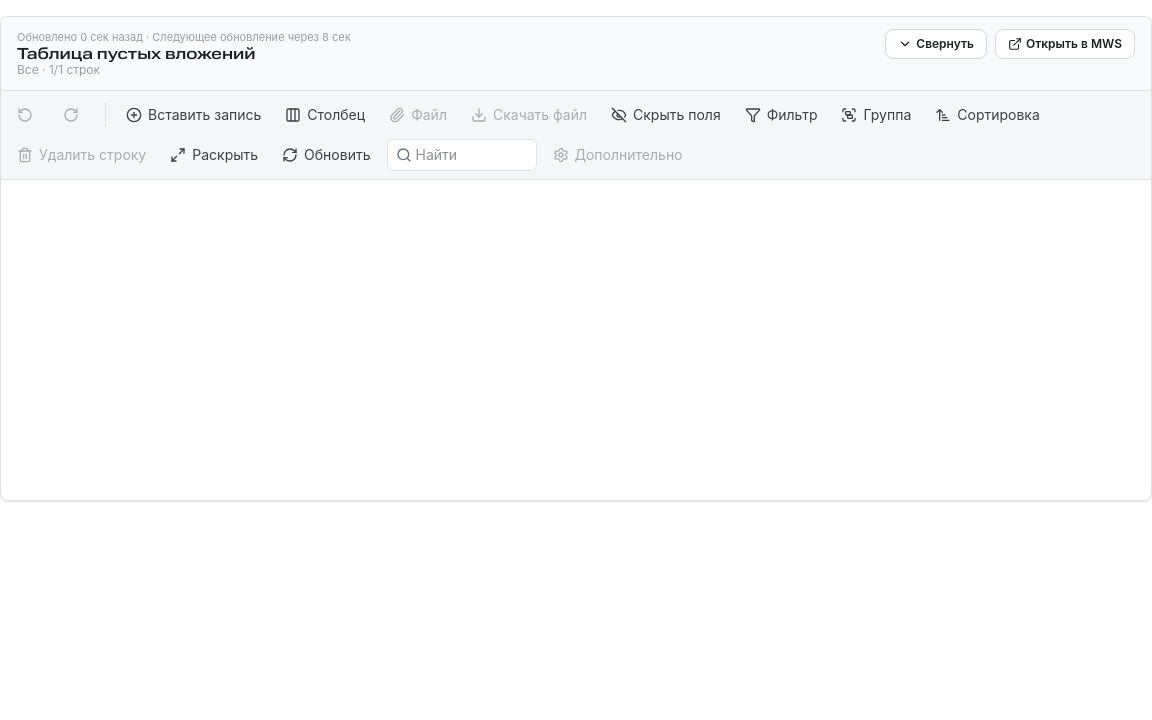
Test: MwsTableEmbedComponent › opens upload modal from an empty attachment cell widget
The width and height of the screenshot is (1152, 720).
Press the mouse on the drawing with test id "mws_canvas_grid" at (576, 340), box [1,180,1151,500]
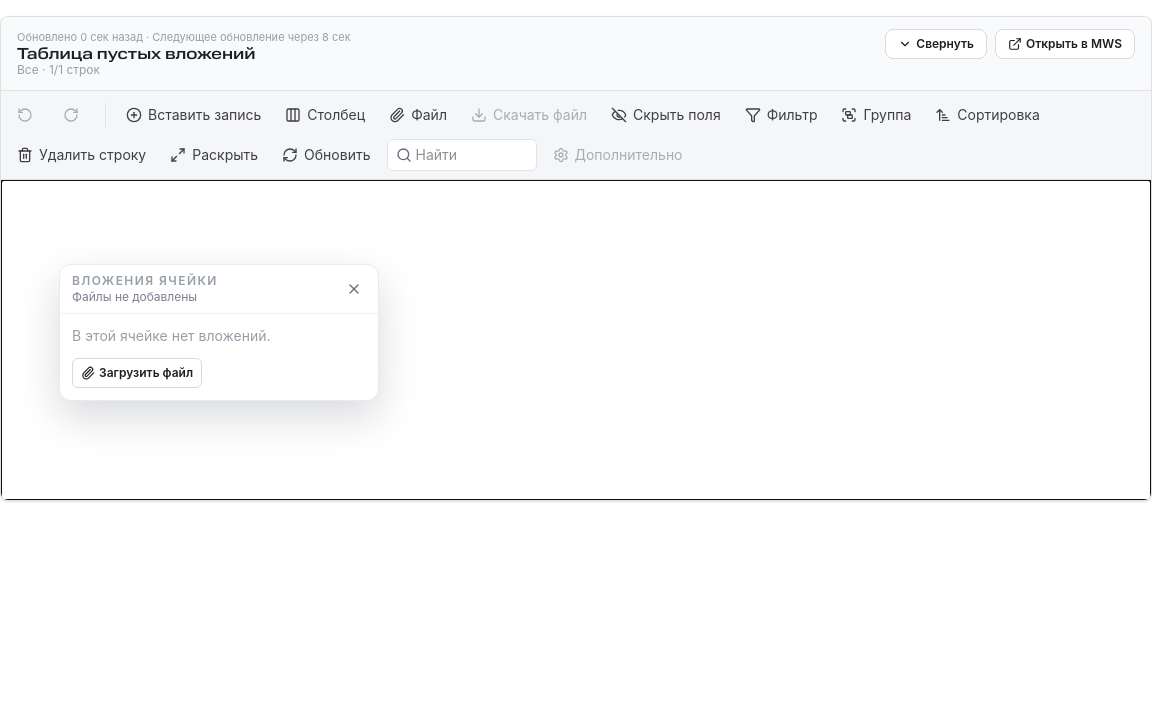
Click the button "Загрузить файл" at (137, 372), box [72,358,202,388]
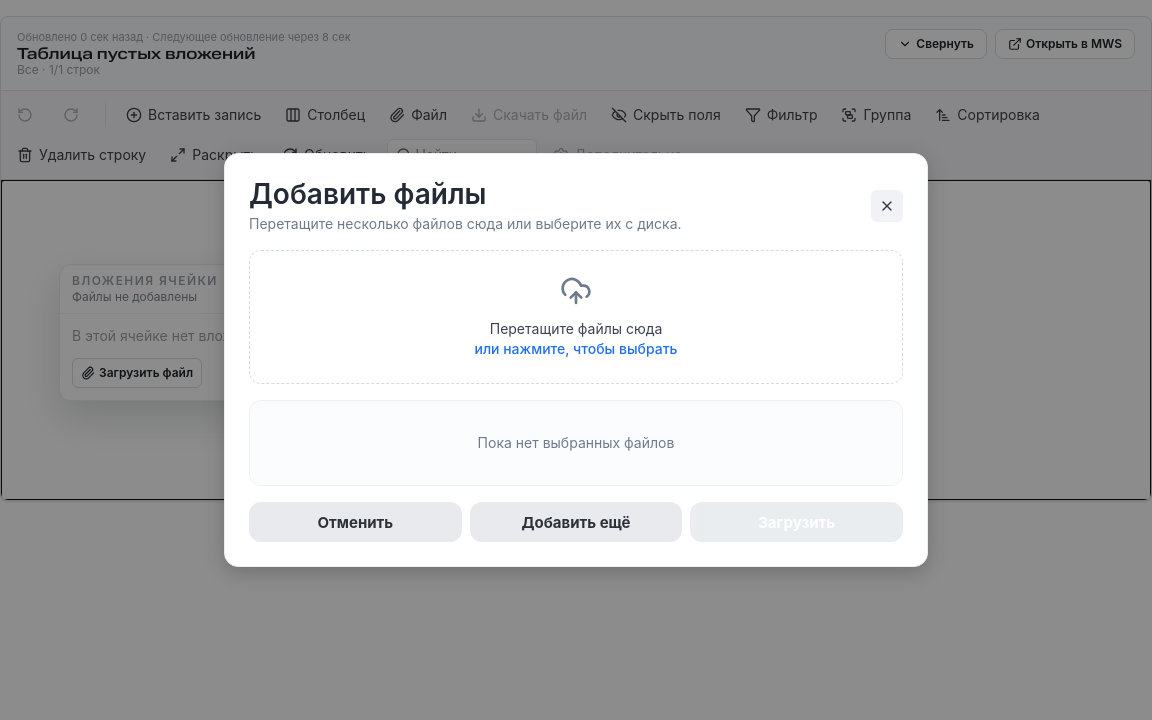
Expected: the dialog "Добавить файлы" is shown, [224,153,928,567]
